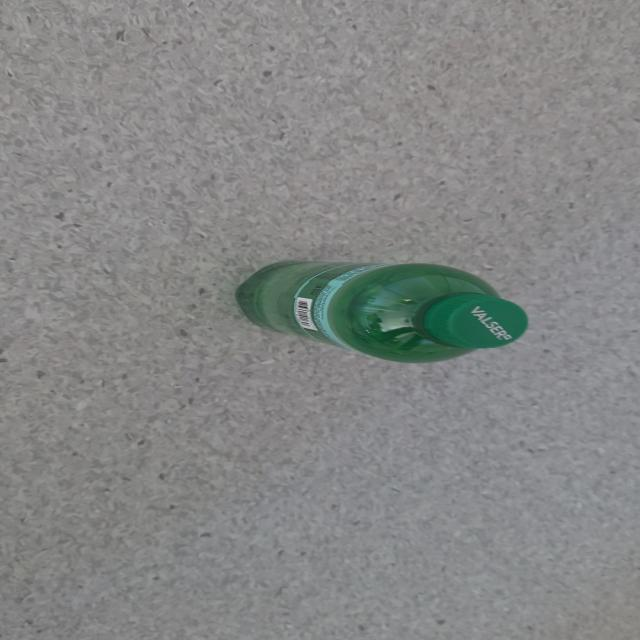bottle: (234, 259, 528, 364)
